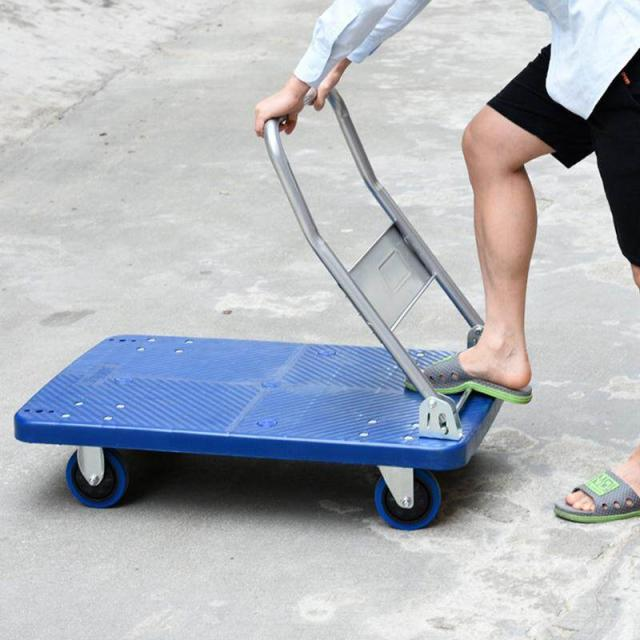Person: (257, 0, 640, 525)
